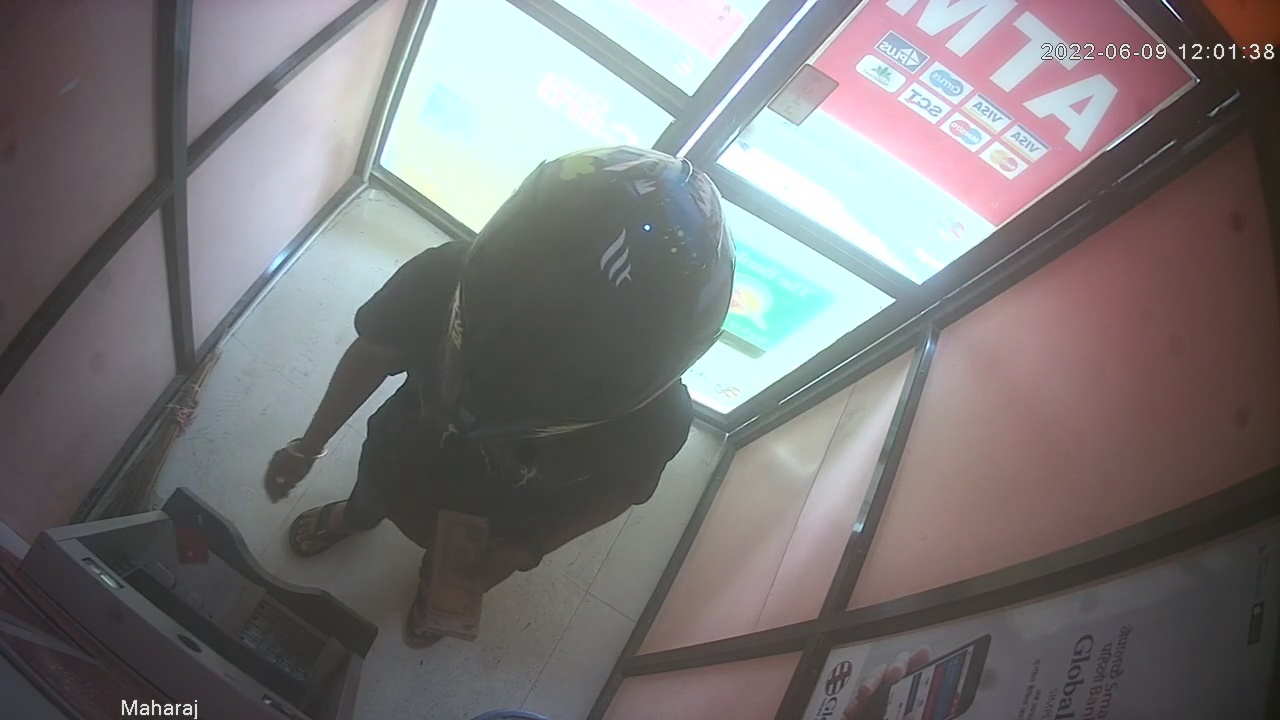helmet: (435, 143, 736, 448)
person: (265, 142, 736, 651)
